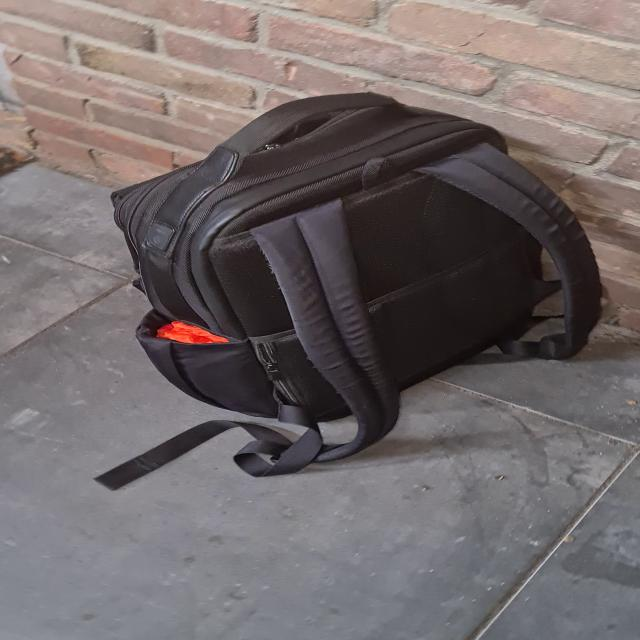backpack: (101, 79, 600, 478)
